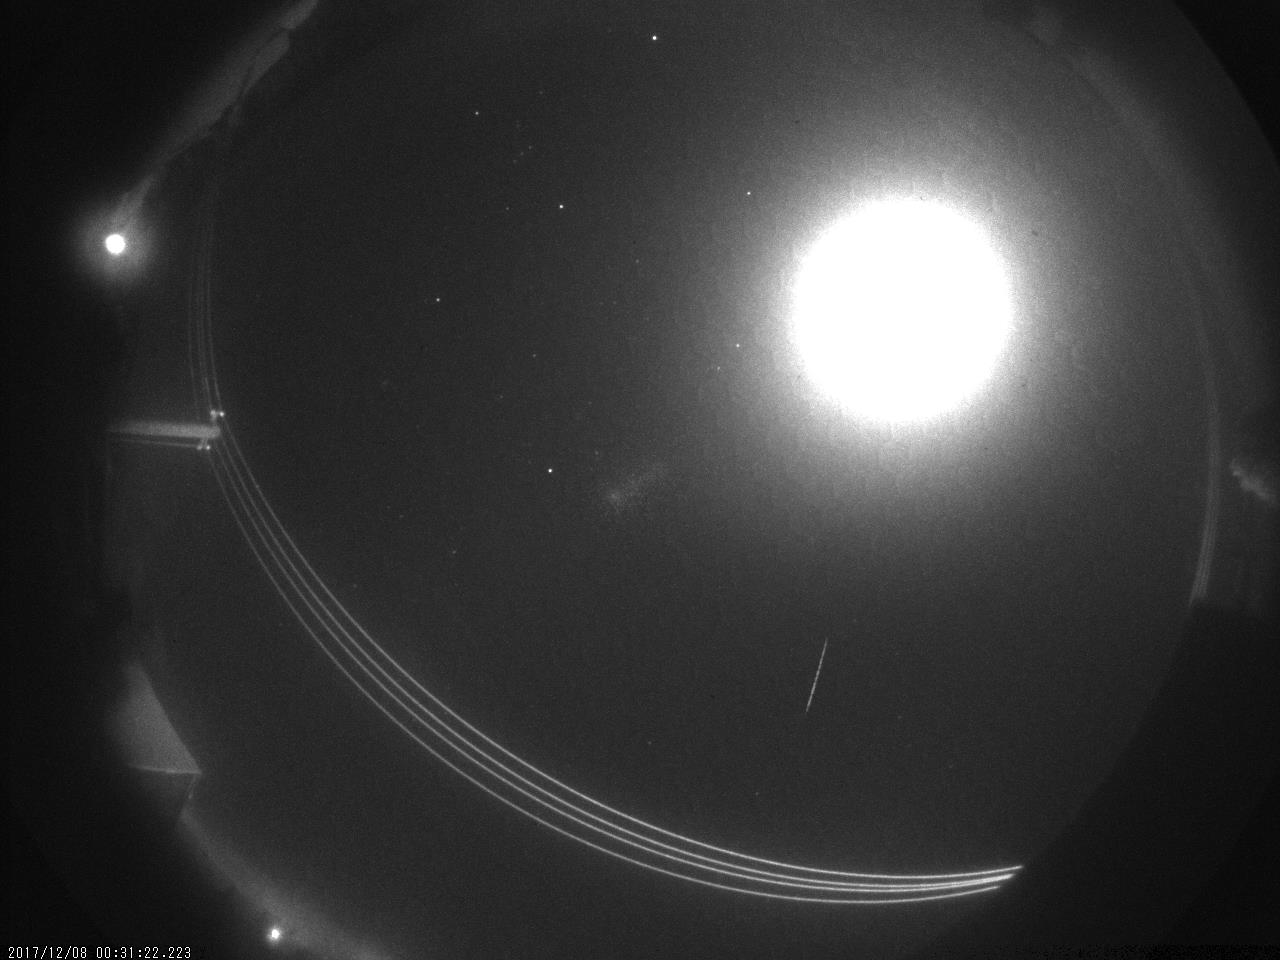meteor: (793, 628, 842, 720)
